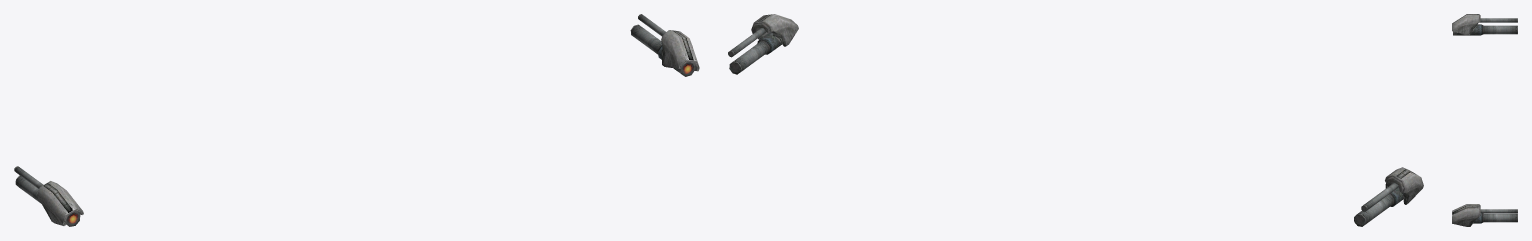
File: hutt_fighter_light_weapon_s06_l0.fbx
The picture shows the model from 3 angles, left to right: view 1: azimuth 30°, elevation 25°; view 2: azimuth 150°, elevation 25°; view 3: azimuth 270°, elevation 25°; orthographic projection. The views are drawn at different scales.
Visible parts, largest first — view 1: mesh_node; view 2: mesh_node; view 3: mesh_node.
Boxes of the visible parts, box(x1,y1,x2,y2) form: mesh_node: box(14, 14, 699, 226); mesh_node: box(728, 14, 1423, 226); mesh_node: box(1452, 14, 1517, 226).
Bounding box in the file's own units: 3.46 × 0.1736 × 0.4872.
